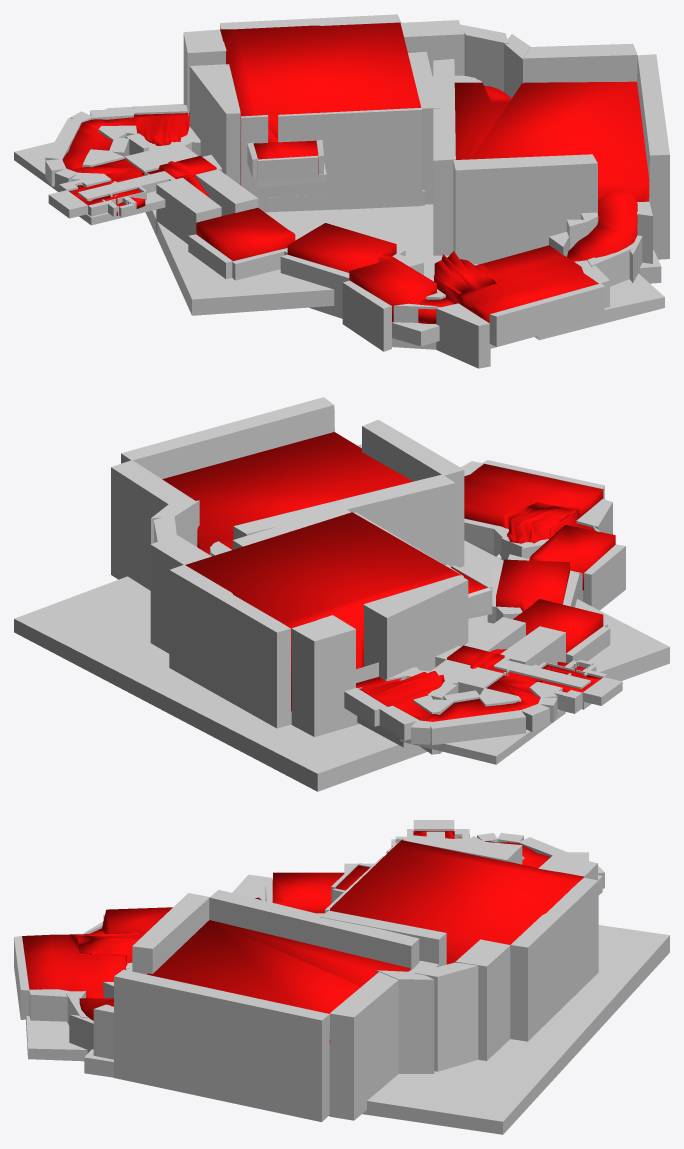
File: level 2.fbx
3 renders of one model, top to bottom at view 1: azimuth 30°, elevation 25°; view 2: azimuth 150°, elevation 25°; view 3: azimuth 270°, elevation 25°, orthographic. The views are drawn at different scales.
Parts seen in each view (by area): view 1: Plane, Cube.073, Cube.059, Cube.045, Cube.030, Cube.077, Cube.074, Cube.072, Cube.065, Cube.084, Cube.021, Cube.089 (+26 smaller); view 2: Plane, Cube.059, Cube.044, Cube.030, Cube.077, Cube.072, Cube.029, Cube.074, Cube.073, Cube.051, Cube.025, Cube.089 (+16 smaller); view 3: Plane, Cube.077, Cube.059, Cube.044, Cube.074, Cube.072, Cube.075, Cube.051, Cube.076, Cube.073, Cube.061, Cube.050 (+7 smaller).
Boxes of the visible parts, x1,y1,x2,y2 form: Plane: [62, 22, 649, 323]; Cube.073: [453, 154, 597, 264]; Cube.059: [106, 104, 661, 315]; Cube.045: [278, 108, 422, 209]; Cube.030: [189, 64, 240, 184]; Cube.077: [637, 54, 669, 259]; Cube.074: [523, 43, 637, 82]; Cube.072: [433, 59, 455, 255]; Cube.065: [489, 283, 604, 346]; Cube.084: [436, 303, 490, 368]; Cube.021: [156, 177, 221, 244]; Cube.089: [342, 280, 391, 351]; Plane: [162, 432, 615, 721]; Cube.059: [14, 540, 669, 791]; Cube.044: [169, 564, 291, 728]; Cube.030: [363, 575, 468, 680]; Cube.077: [121, 397, 334, 478]; Cube.072: [233, 474, 455, 566]; Cube.029: [291, 615, 355, 736]; Cube.074: [111, 460, 194, 590]; Cube.073: [362, 419, 464, 567]; Cube.051: [150, 535, 211, 653]; Cube.025: [429, 710, 525, 745]; Cube.089: [583, 544, 625, 610]; Plane: [22, 831, 584, 1115]; Cube.077: [114, 969, 329, 1122]; Cube.059: [84, 874, 669, 1134]; Cube.044: [510, 877, 598, 1041]; Cube.074: [329, 972, 398, 1120]; Cube.072: [209, 890, 419, 970]; Cube.075: [415, 962, 478, 1071]; Cube.051: [455, 939, 510, 1060]; Cube.076: [377, 970, 434, 1073]; Cube.073: [132, 893, 209, 974]; Cube.061: [26, 1016, 87, 1061]; Cube.050: [320, 910, 446, 966].
Bounding box in the file's own units: 13172 × 3270 × 13876.
